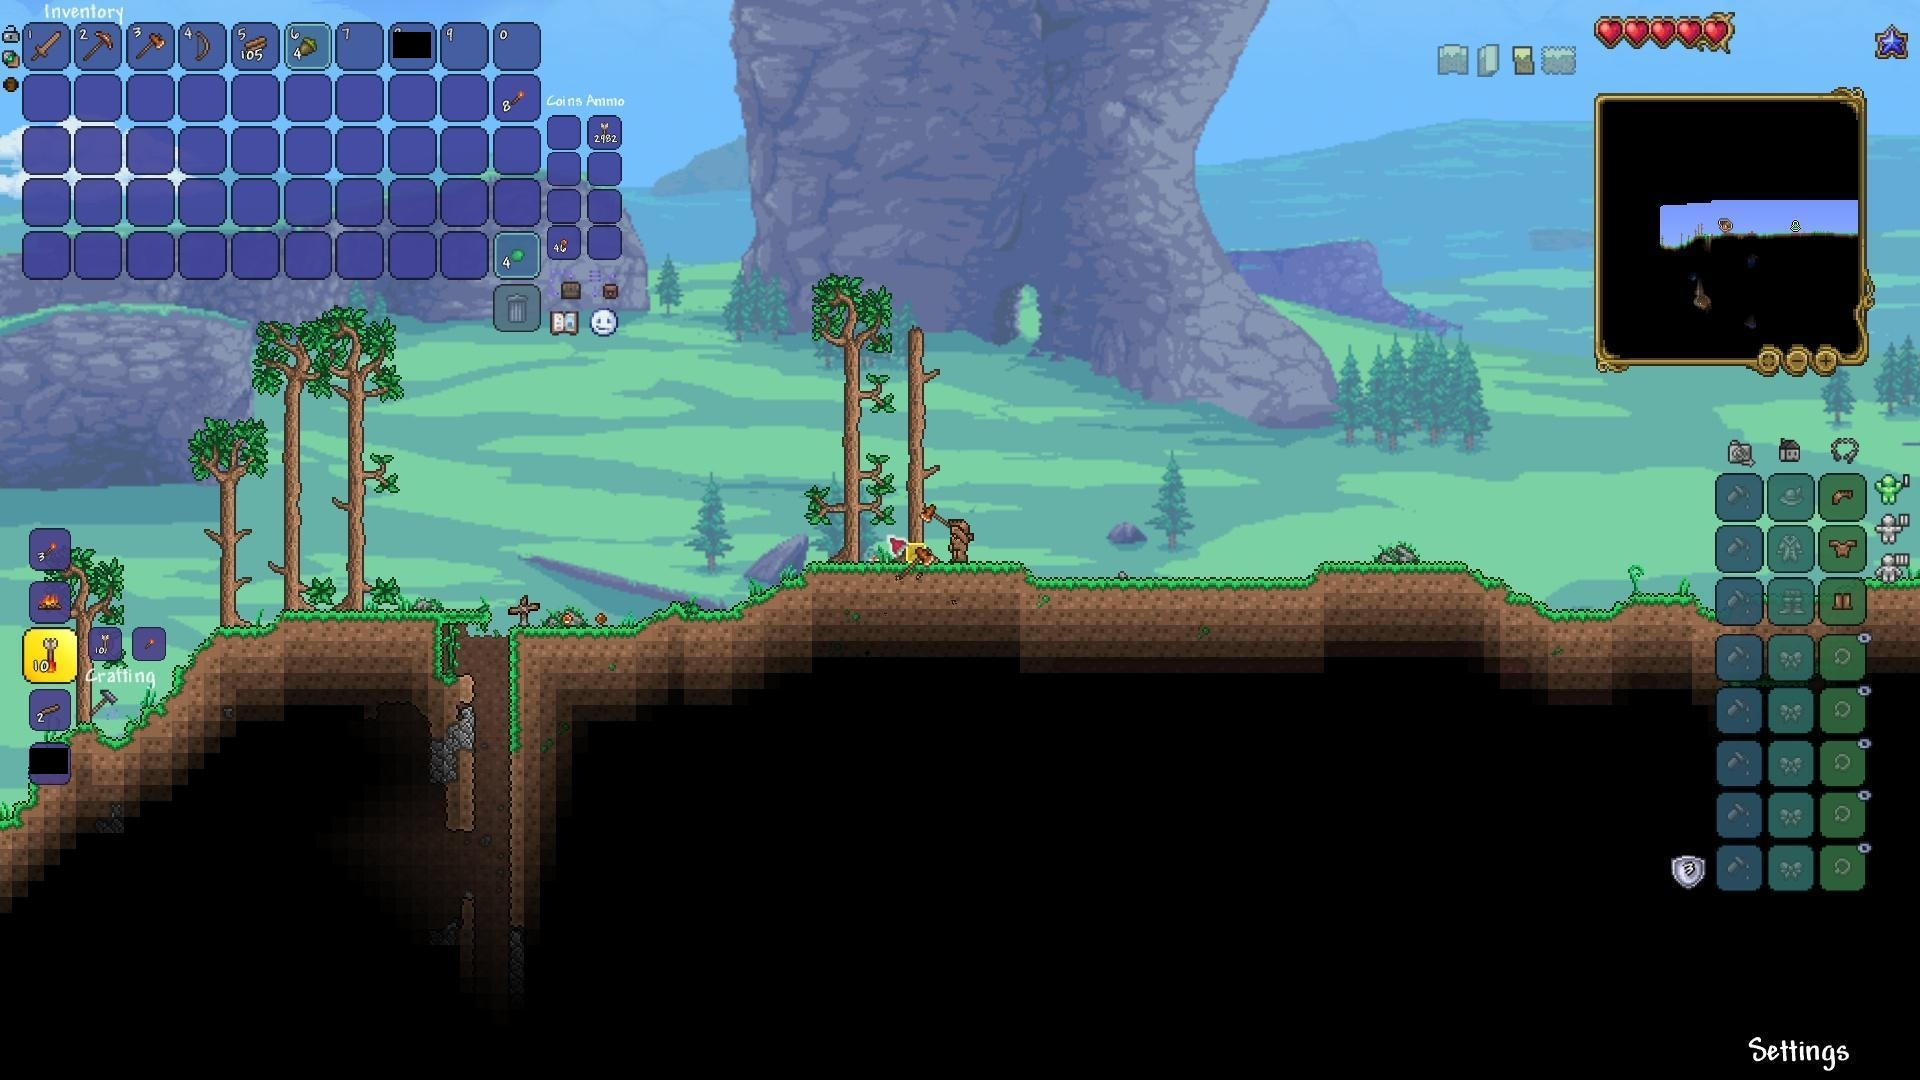breastplate: (1830, 537, 1859, 558)
helmet: (1829, 485, 1858, 510)
legs: (1832, 588, 1855, 616)
wood: (243, 33, 270, 59)
